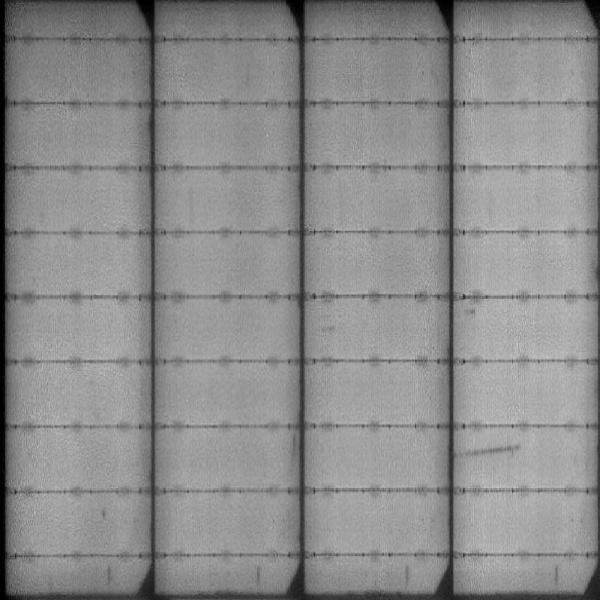scratch: (457, 443, 528, 458)
